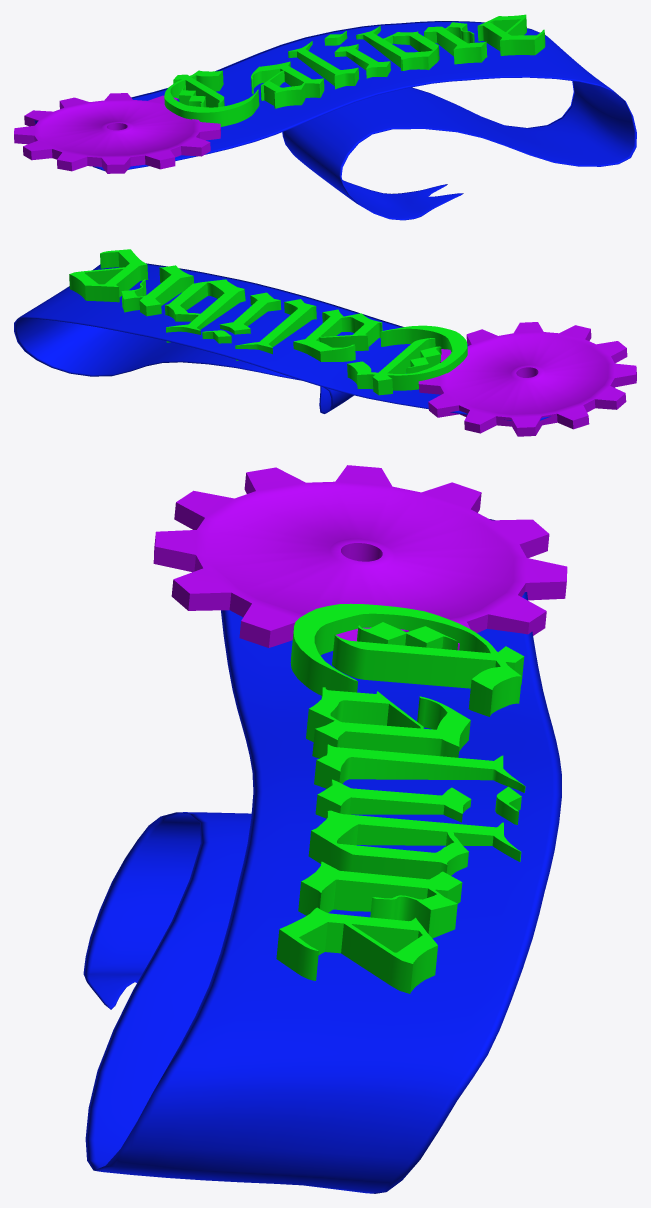
File: Title.FBX
3 views of the same model, one above another, from view 1: azimuth 30°, elevation 25°; view 2: azimuth 150°, elevation 25°; view 3: azimuth 270°, elevation 25° (orthographic). The views are drawn at different scales.
Parts seen in each view (by area): view 1: title_low; view 2: title_low; view 3: title_low.
Boxes of the visible parts, x1,y1,x2,y2 form: title_low: [14, 14, 636, 220]; title_low: [14, 249, 636, 436]; title_low: [83, 465, 567, 1193].
Bounding box in the file's own units: 739 × 141 × 277.
